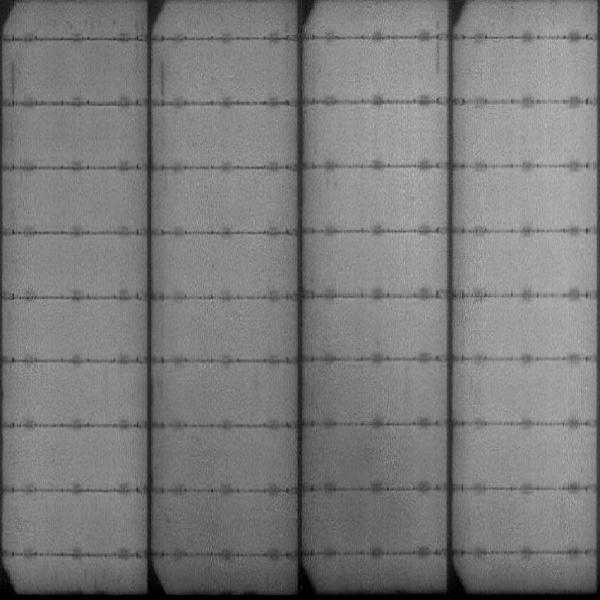scratch: (432, 36, 444, 77), (159, 63, 170, 96), (9, 56, 18, 96)
